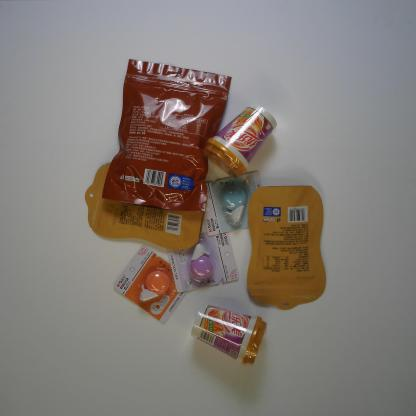Dried Food: (101, 58, 232, 214)
Dried Fruit: (84, 162, 209, 252), (246, 184, 327, 312)
Instant Drink: (203, 102, 278, 179), (190, 302, 267, 367)
Stationery: (113, 243, 188, 326), (165, 232, 240, 295), (204, 171, 263, 237)
